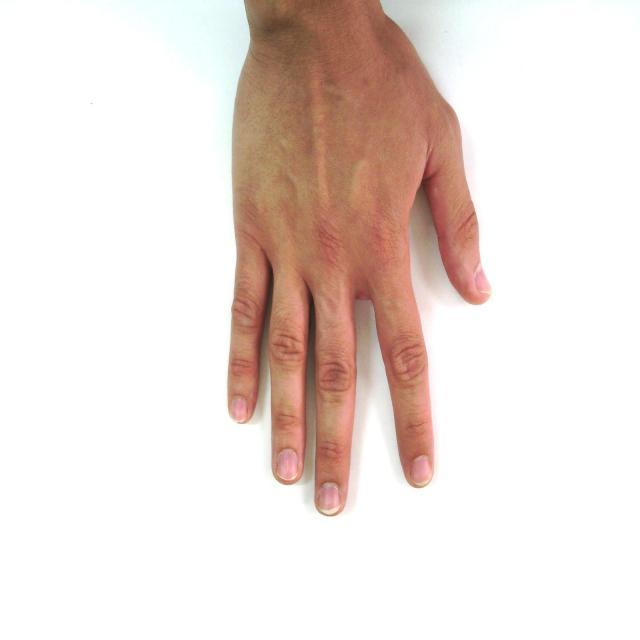Fingernail: (276, 449, 298, 481), (318, 482, 340, 513), (411, 456, 431, 485), (475, 269, 490, 294), (233, 396, 247, 422)
